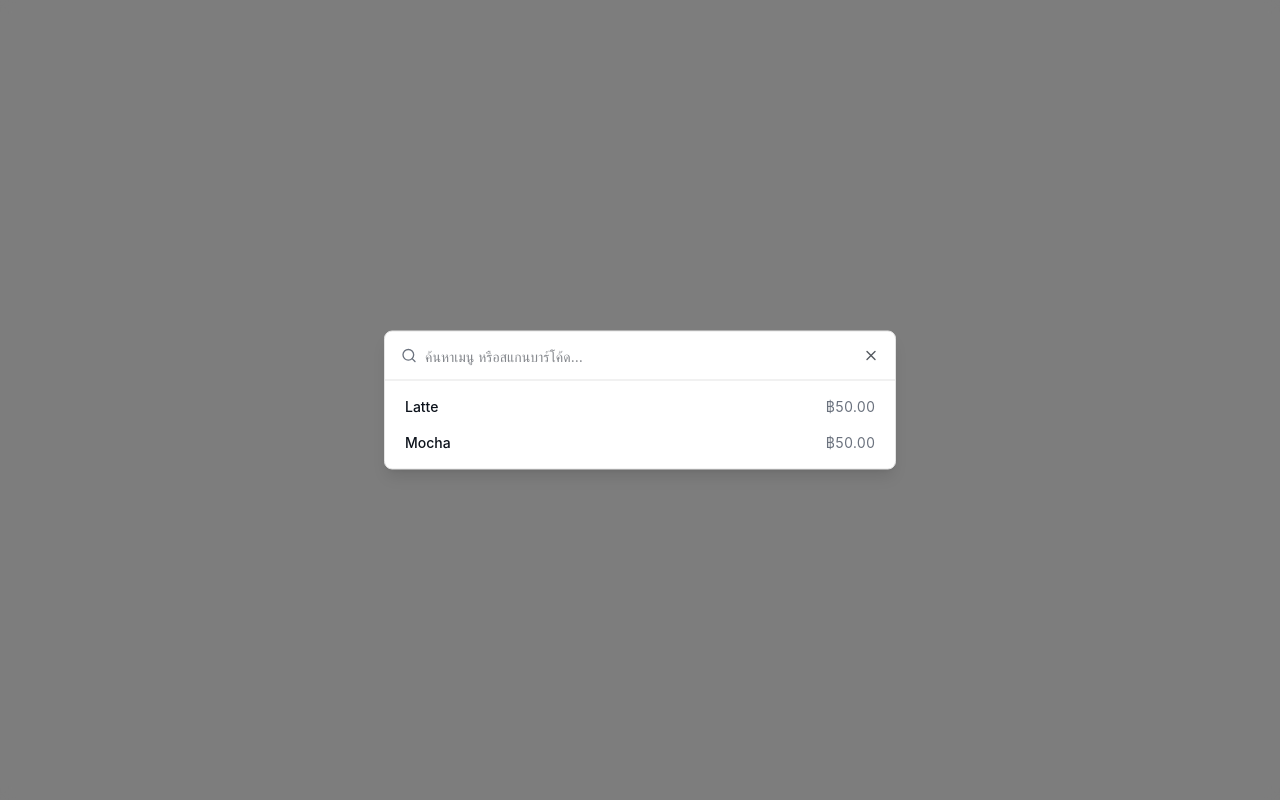
it: CommandPalette › lists products and filters by name
Expected: the button "Latte ฿50.00" is shown, [393,388,887,424]
Type "moc" into the field at x=652, y=356, box [425,332,879,380]
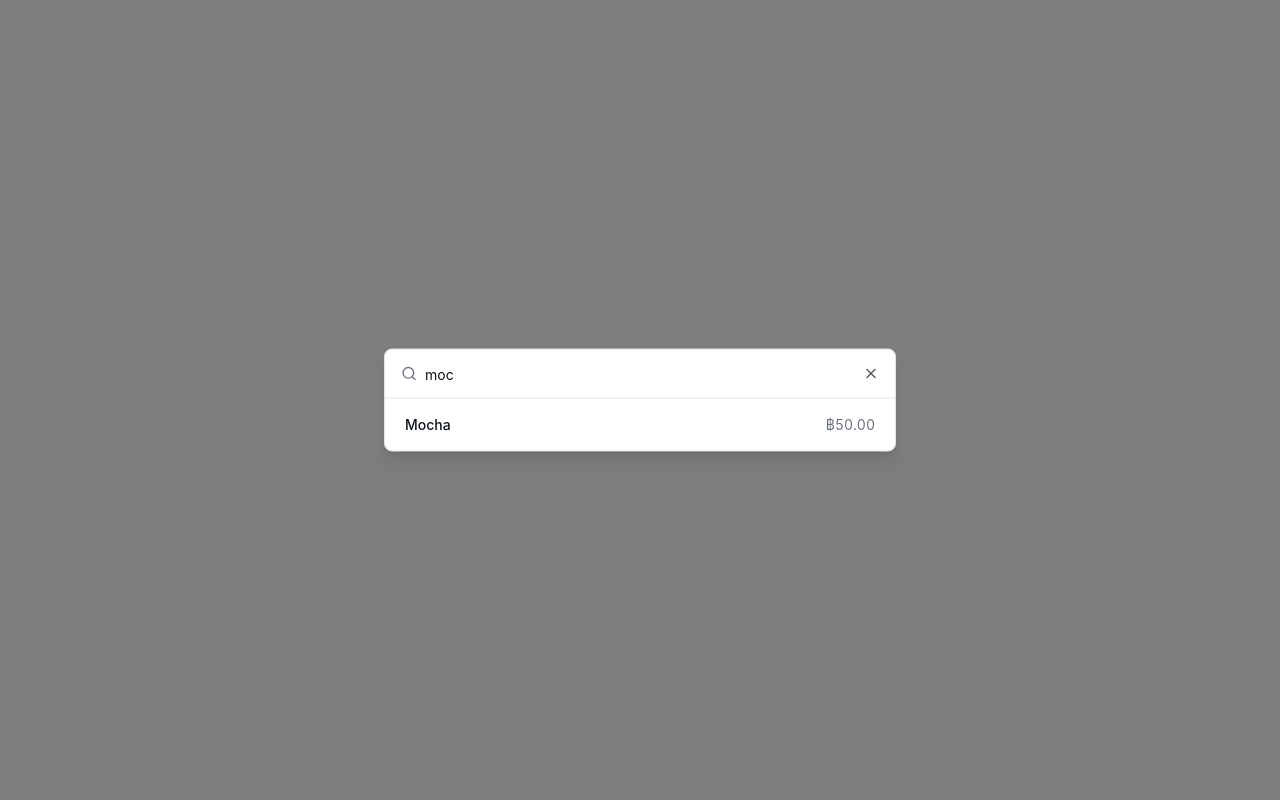
Expected: the button "Mocha ฿50.00" is shown, [393,406,887,442]
Expected: the button "Latte" is gone
